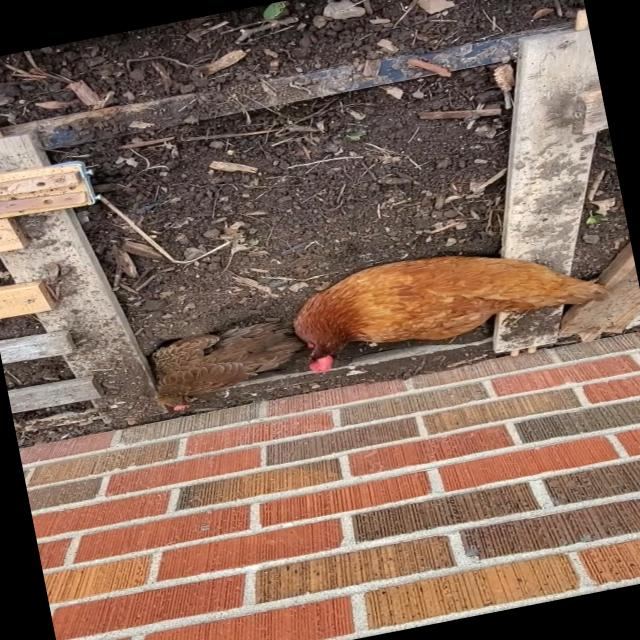stand bath: (255, 218, 632, 382), (134, 312, 317, 424)
